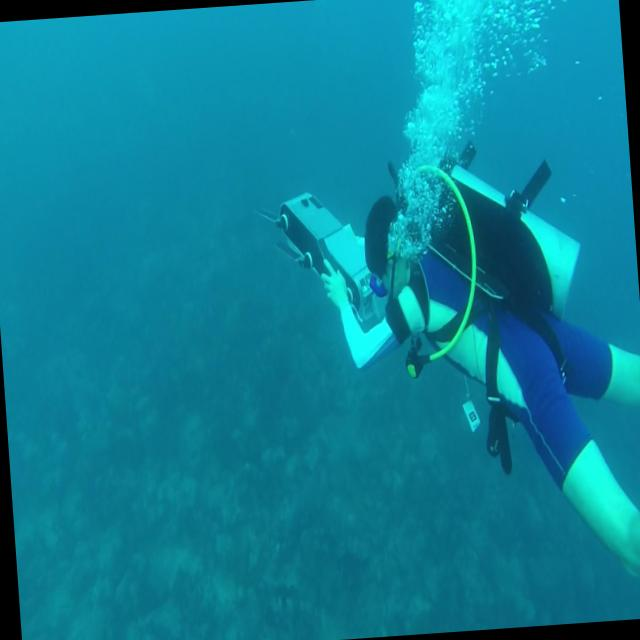human: (253, 130, 640, 603)
